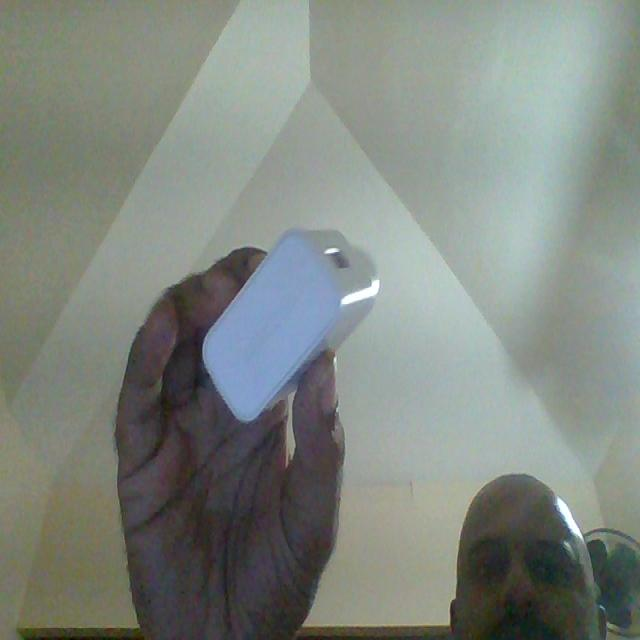charger: (191, 230, 380, 422)
